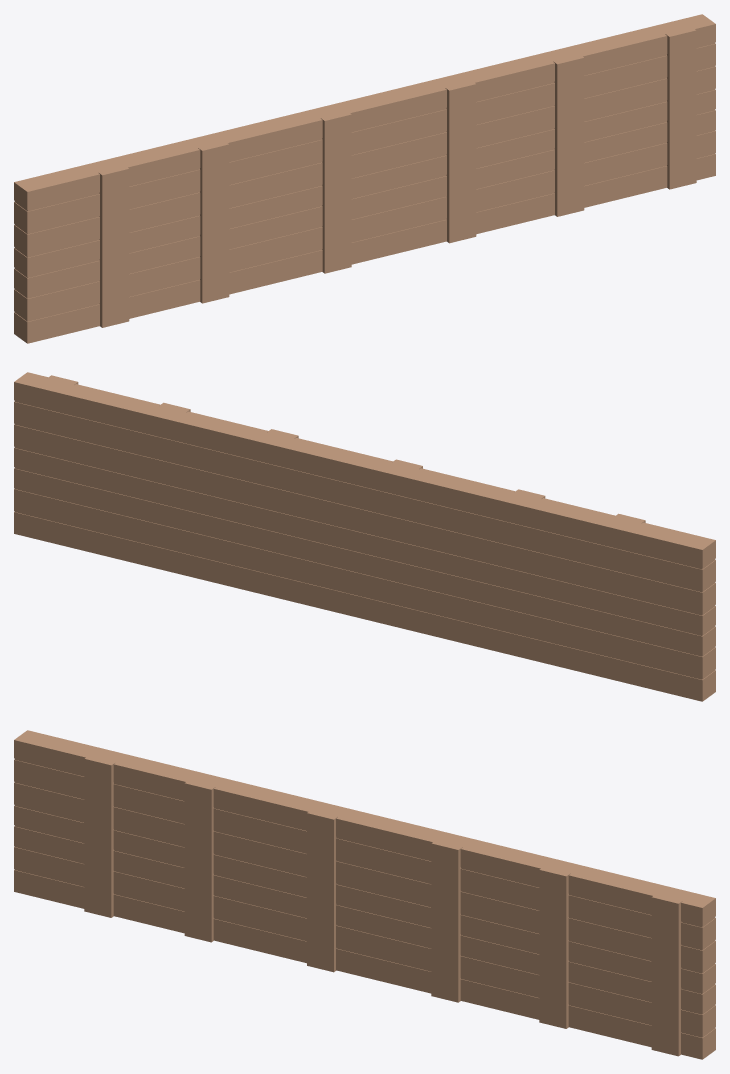
The model's file is walls_v6_AR.FBX.
3 views of the same model, one above another, from view 1: azimuth 30°, elevation 25°; view 2: azimuth 150°, elevation 25°; view 3: azimuth 330°, elevation 25° (orthographic).
Visible parts, largest first — view 1: Object003; view 2: Object003; view 3: Object003.
Boxes of the visible parts, x1,y1,x2,y2 form: Object003: [14, 14, 715, 343]; Object003: [14, 372, 715, 701]; Object003: [14, 730, 715, 1059].
Size of the model in its own units: 8326 by 1764 by 328.
